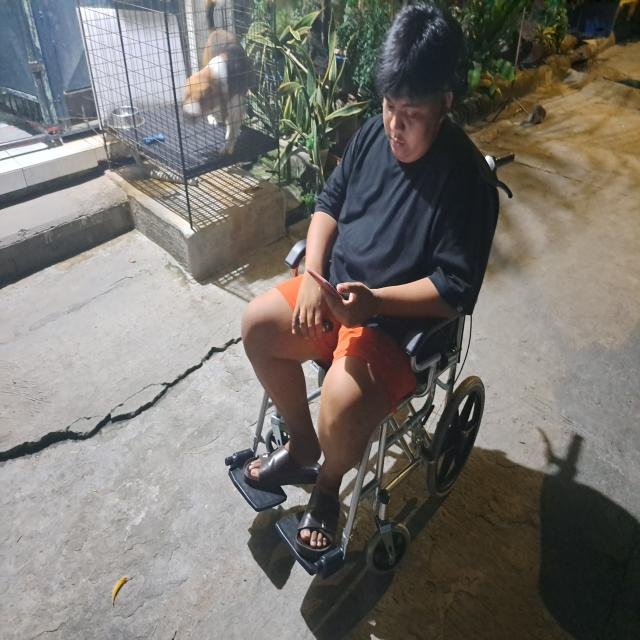wheelchairs: (227, 227, 488, 581)
